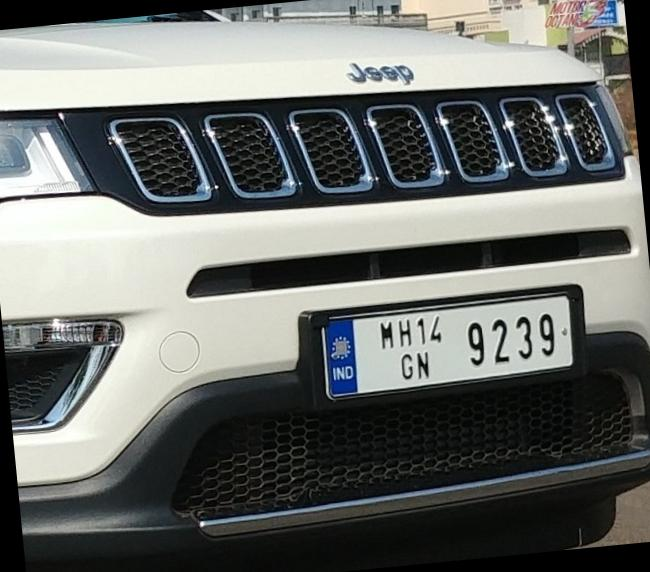plate: (289, 275, 593, 403)
